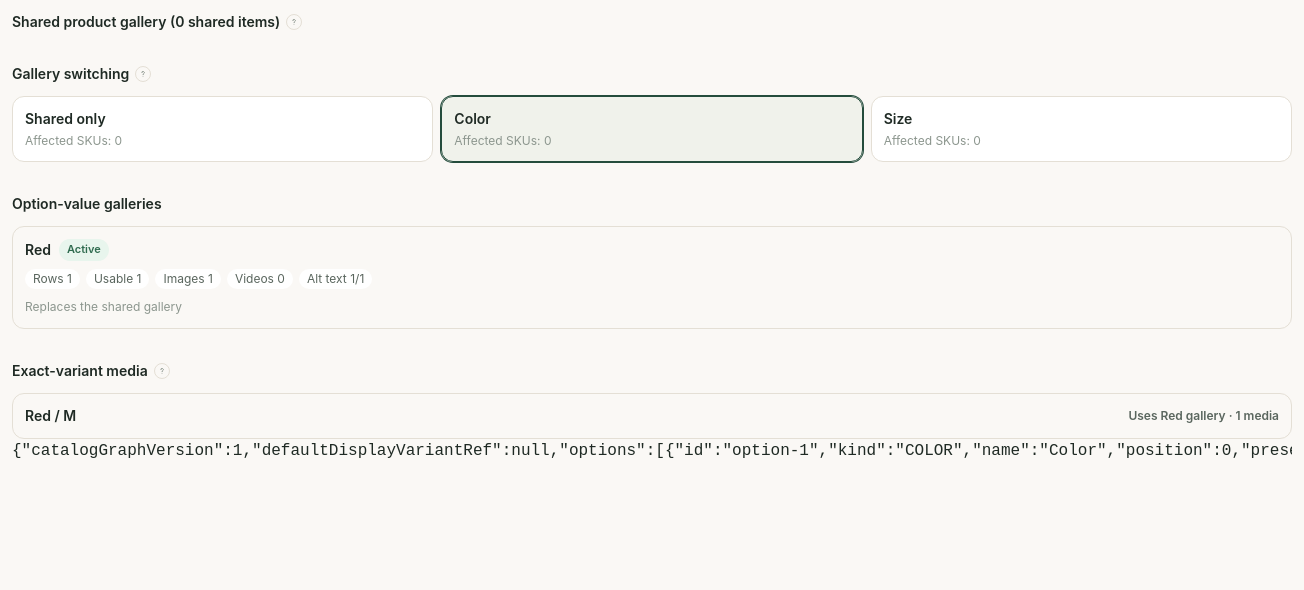
it: ProductMediaScopesEditor › switches the gallery option without deleting the former option-value scope
Click the button "Size Affected SKUs: 0". click: [932, 140]
box: [871,96,1292,162]
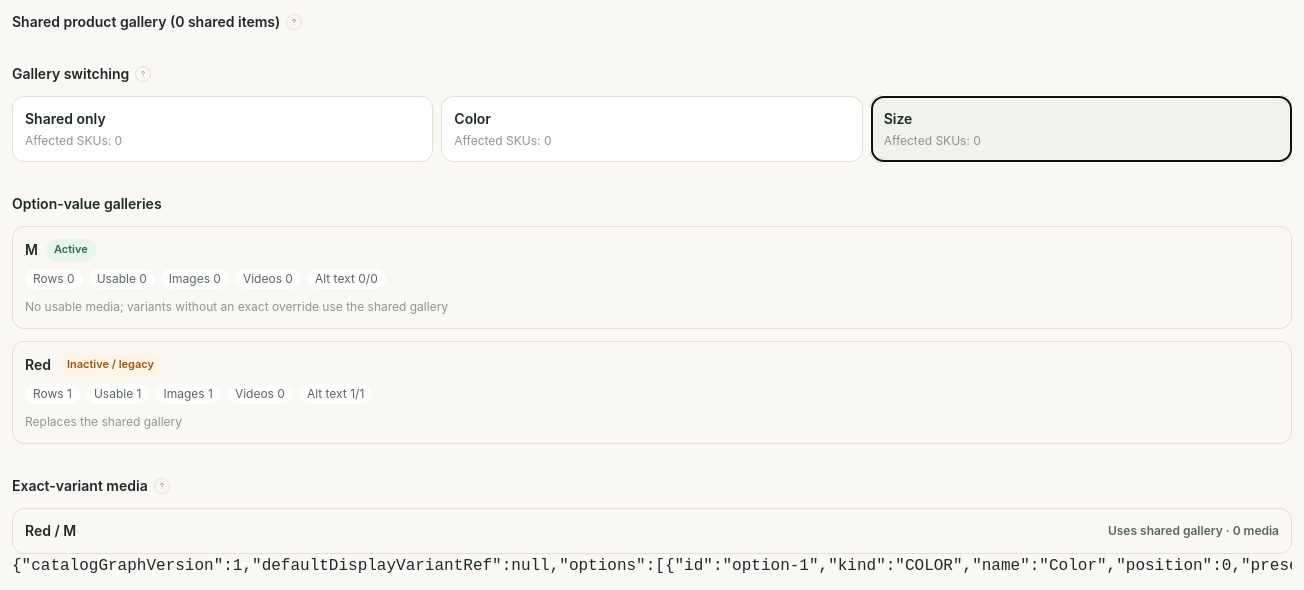
Check: the heading named "Color / Red media summary" shows "Inactive / legacy", box [25,354,372,429]
